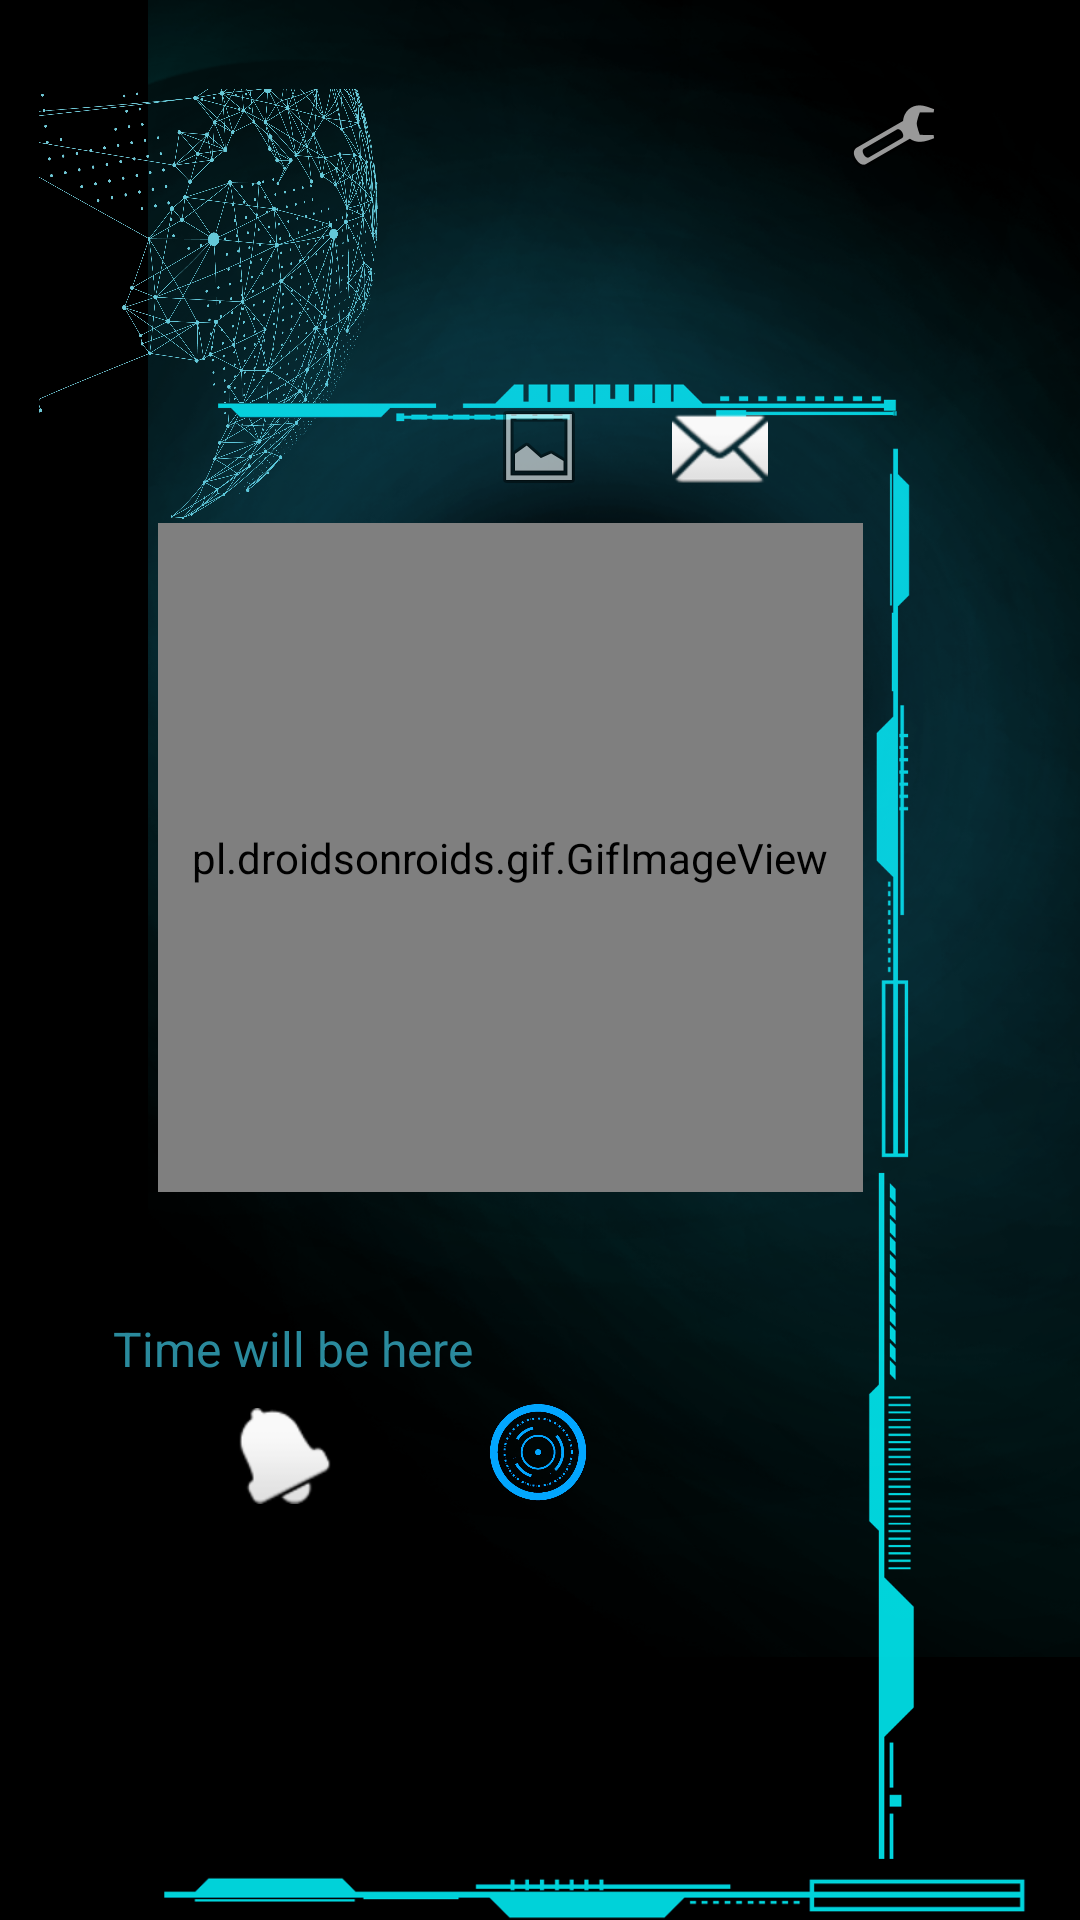

Where icons sit on this 1080x1920 app screen, as (x1, y1, x2, y2):
popup reminder: (240, 1408, 330, 1504)
preferences: (854, 105, 934, 165)
record: (490, 1404, 586, 1501)
